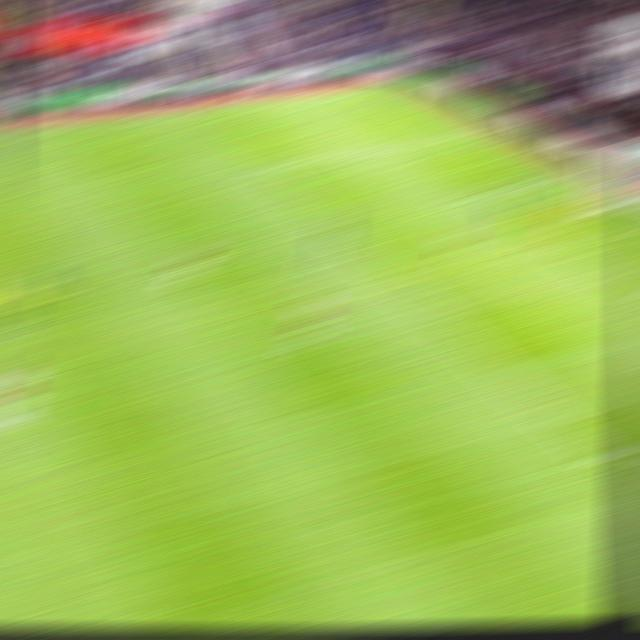bigarea_bottom_inner: (582, 444, 623, 470)
bigarea_top_inner: (243, 159, 279, 175)
bigarea_top_outter: (444, 130, 478, 140)
bottom_arc_area_intersection: (434, 323, 472, 341)
corner: (360, 83, 398, 93)
smallarea_top_inner: (459, 188, 495, 204)
smallarea_top_outter: (528, 175, 564, 188)
